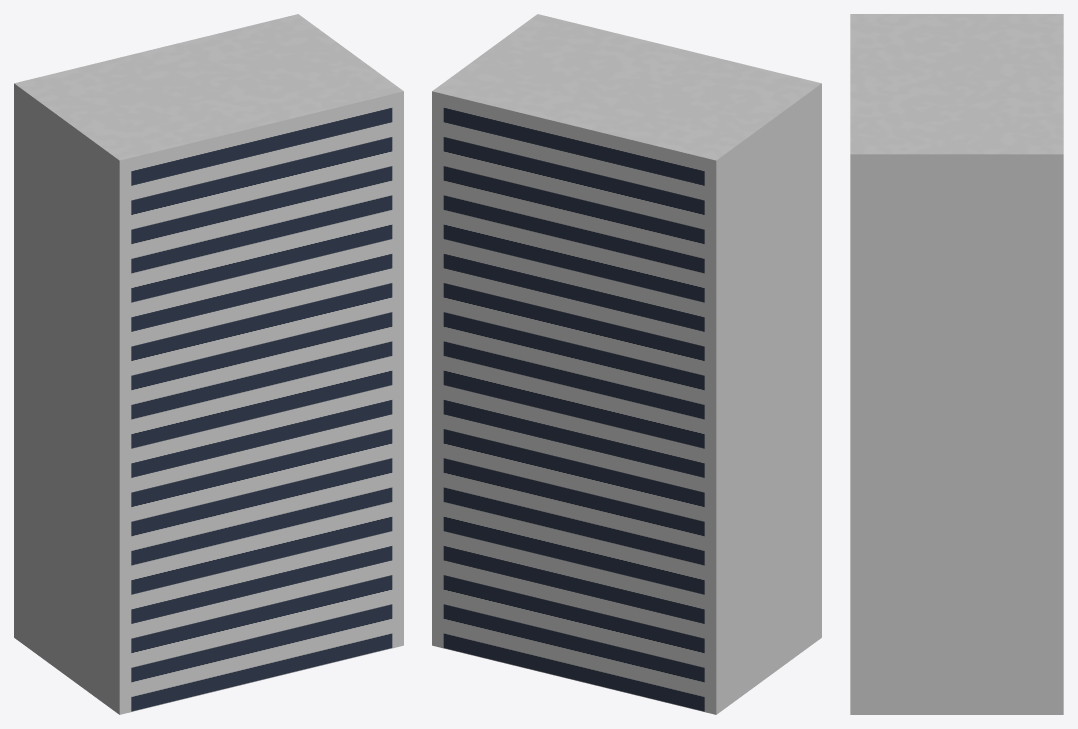
File: Building_LM_W2_001.fbx
3 views of the same model, side by side, from view 1: azimuth 30°, elevation 25°; view 2: azimuth 150°, elevation 25°; view 3: azimuth 270°, elevation 25° (orthographic).
Visible parts, largest first — view 1: Building_LM_W2_001; view 2: Building_LM_W2_001; view 3: Building_LM_W2_001.
Boxes of the visible parts, bbox=[...] form: Building_LM_W2_001: bbox=[14, 14, 403, 714]; Building_LM_W2_001: bbox=[432, 14, 821, 714]; Building_LM_W2_001: bbox=[850, 14, 1063, 714].
Bounding box in the file's own units: 44.88 × 83.64 × 28.87.
